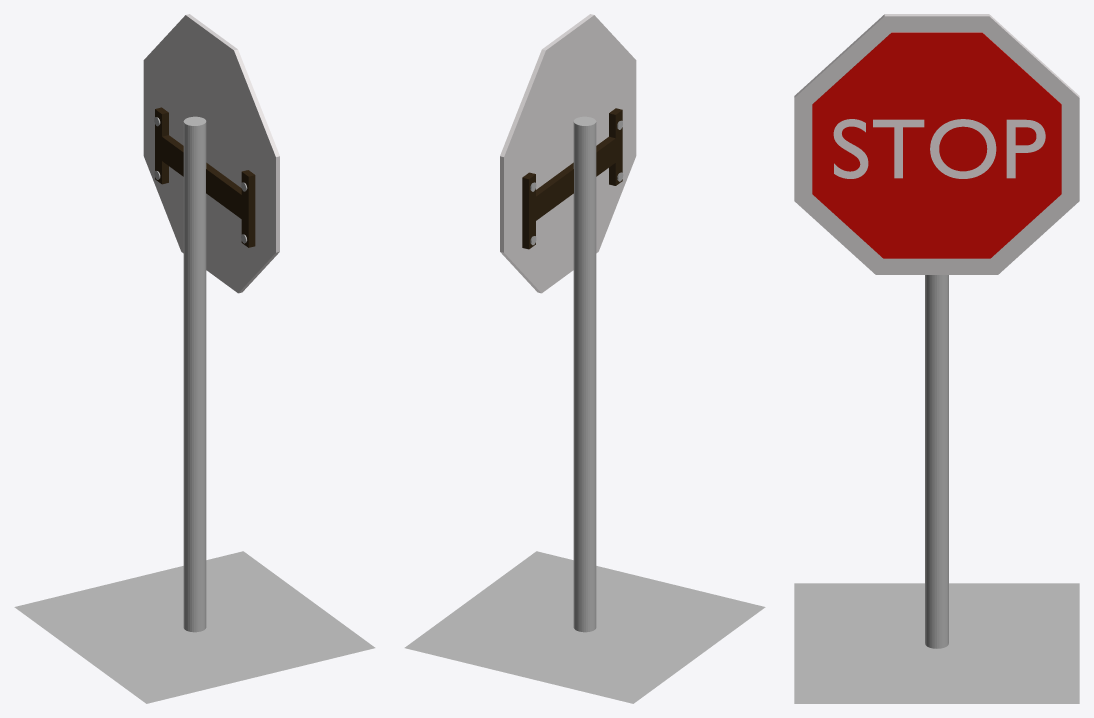
File: Anna_034_TrafficSign.fbx
3 views of the same model, side by side, from view 1: azimuth 30°, elevation 25°; view 2: azimuth 150°, elevation 25°; view 3: azimuth 270°, elevation 25° (orthographic). The views are drawn at different scales.
Visible parts, largest first — view 1: Plane, Cube, Cylinder, Cube.001; view 2: Plane, Cube, Cylinder, Cube.001; view 3: Cube.002, Plane, Cube, Cylinder, Text.
Part boxes in pixels (left/top/right/bottom): Plane: left=14, top=551, right=375, bottom=703; Cube: left=143, top=14, right=279, bottom=293; Cylinder: left=183, top=116, right=206, bottom=632; Cube.001: left=155, top=107, right=255, bottom=247; Plane: left=404, top=551, right=765, bottom=703; Cube: left=500, top=14, right=636, bottom=293; Cylinder: left=573, top=116, right=596, bottom=632; Cube.001: left=522, top=108, right=622, bottom=249; Cube.002: left=812, top=32, right=1061, bottom=258; Plane: left=794, top=583, right=1079, bottom=703; Cube: left=794, top=14, right=1079, bottom=274; Cylinder: left=925, top=275, right=948, bottom=648; Text: left=833, top=119, right=1045, bottom=178.
Size of the model in its own units: 200 by 496 by 200.
